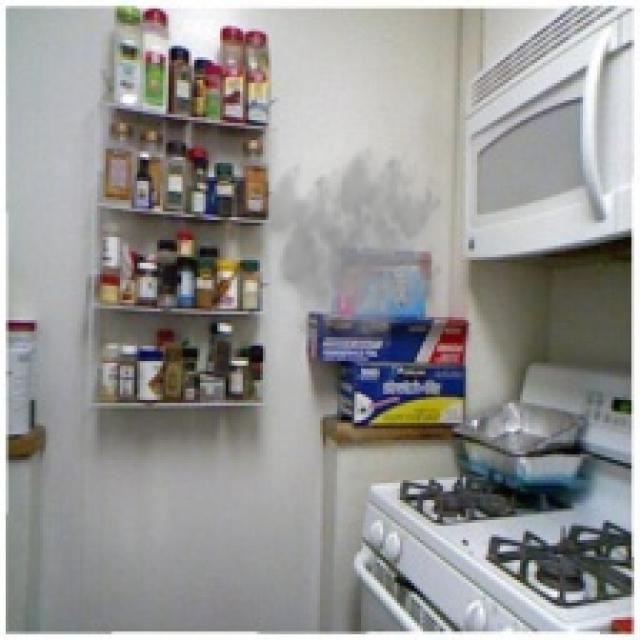smoke: (248, 143, 452, 357)
